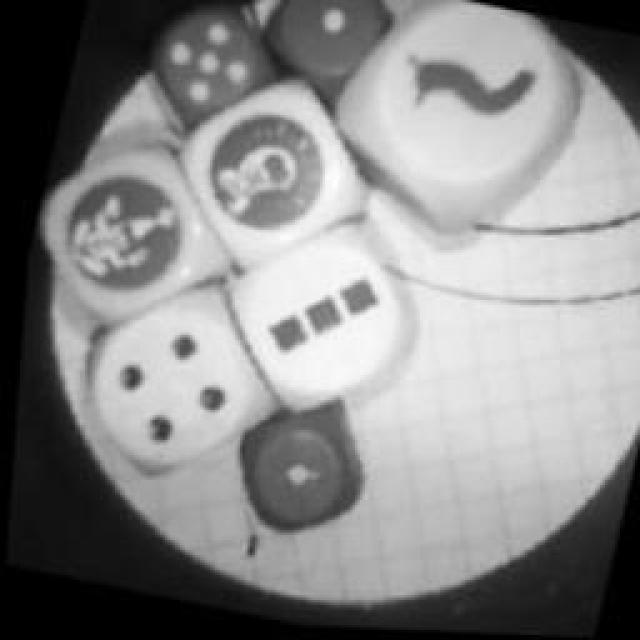dice_1: (205, 382, 390, 560), (242, 0, 398, 120)
dice_4: (44, 262, 298, 516)
dice_5: (114, 0, 284, 158)
